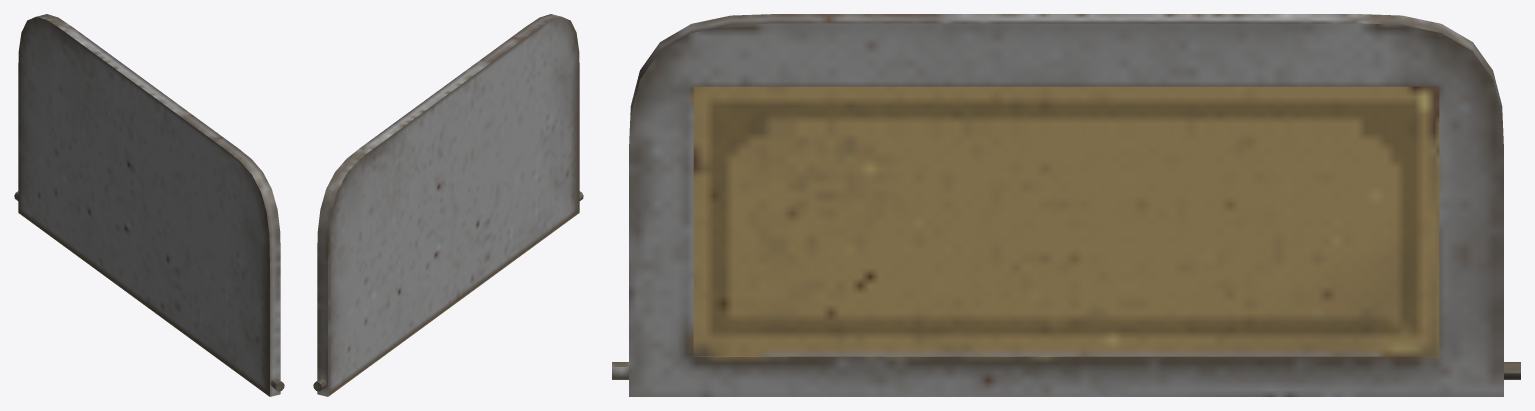
Rendered from Freezer_Door.fbx.
The picture shows the model from 3 angles, left to right: view 1: azimuth 30°, elevation 25°; view 2: azimuth 150°, elevation 25°; view 3: azimuth 270°, elevation 25°; orthographic projection. The views are drawn at different scales.
Visible parts, largest first — view 1: Freezer_Door; view 2: Freezer_Door; view 3: Freezer_Door.
Boxes of the visible parts, left/top/right/bottom form: Freezer_Door: left=14, top=14, right=284, bottom=396; Freezer_Door: left=313, top=14, right=583, bottom=396; Freezer_Door: left=612, top=14, right=1520, bottom=396.
Bounding box in the file's own units: 78.76 × 1.9 × 35.73.
